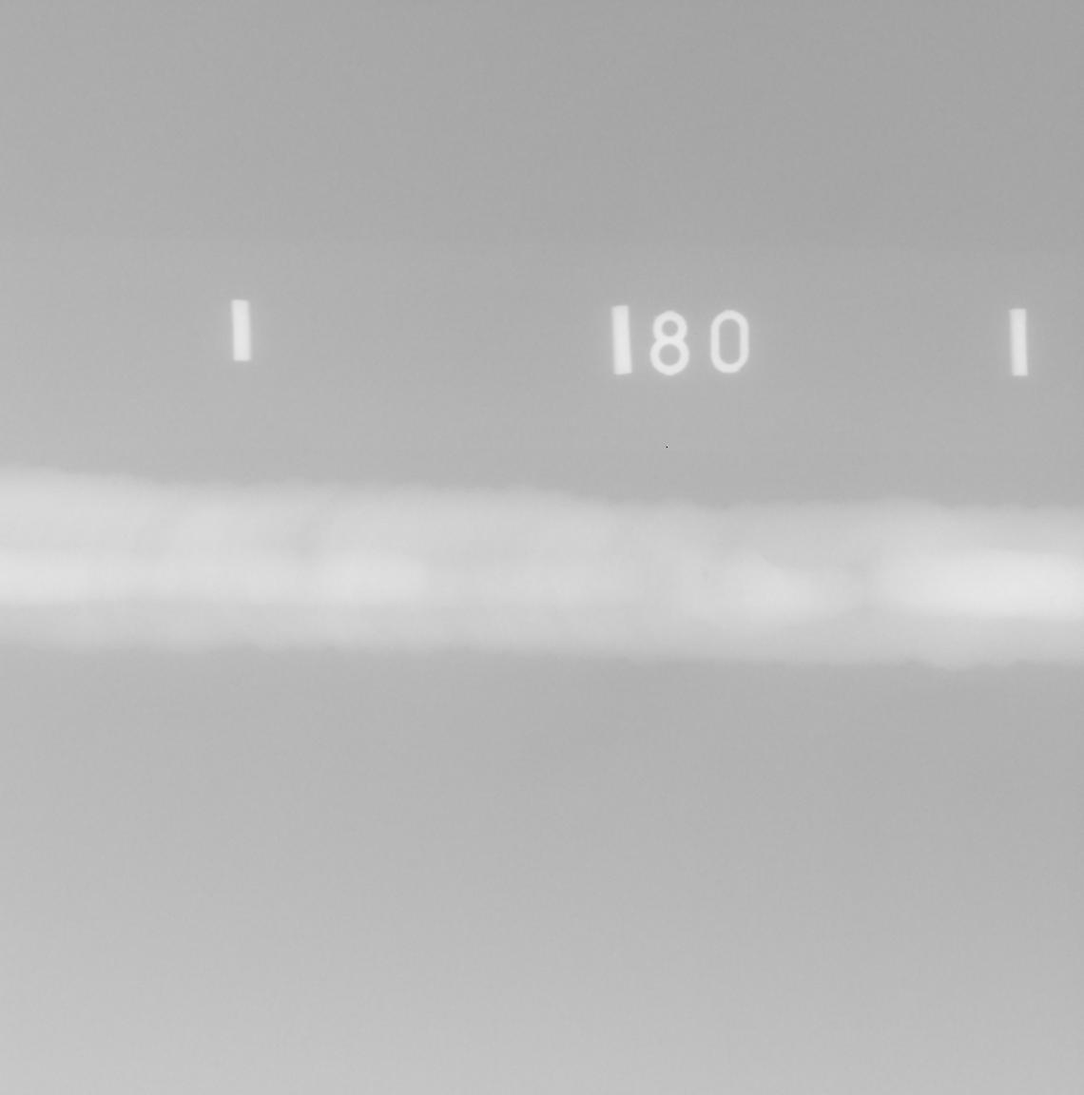Inclusion: (846, 558, 869, 577), (699, 566, 711, 585), (855, 604, 867, 613)
